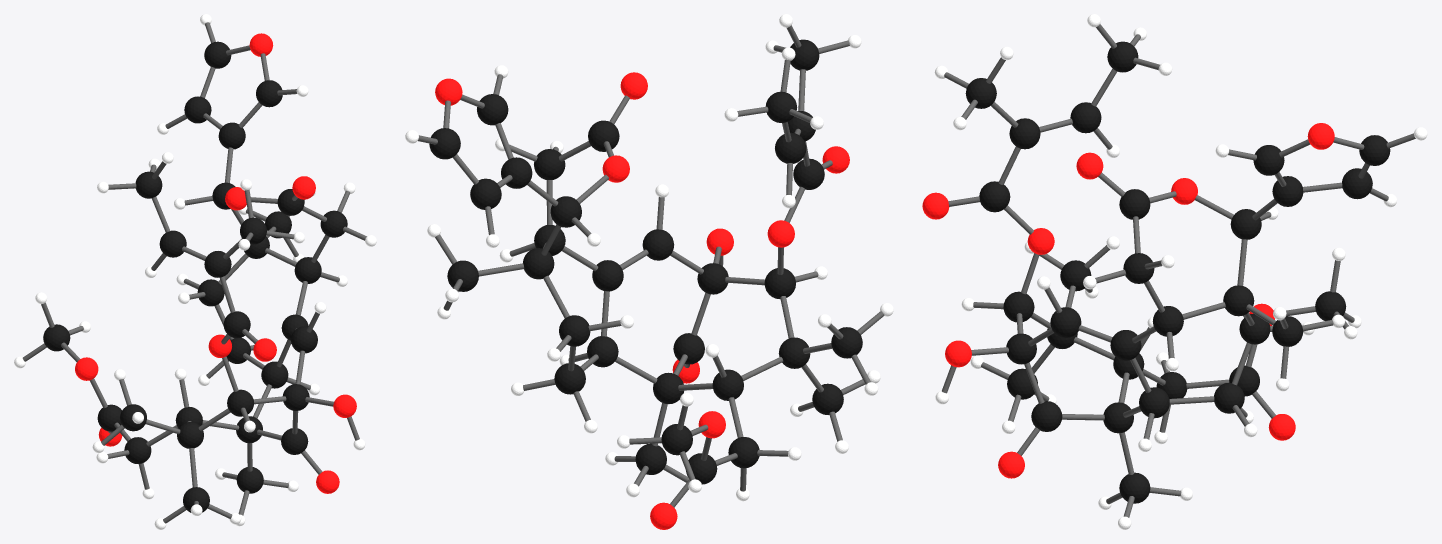
File: molecule.glb
3 views of the same model, side by side, from view 1: azimuth 30°, elevation 25°; view 2: azimuth 150°, elevation 25°; view 3: azimuth 270°, elevation 25° (orthographic). The views are drawn at different scales.
Visible parts, largest first — view 1: geometry_36, geometry_1, geometry_37, geometry_40, geometry_2, geometry_38, geometry_25, geometry_4, geometry_19, geometry_0, geometry_8, geometry_16 (+22 smaller); view 2: geometry_24, geometry_23, geometry_37, geometry_21, geometry_31, geometry_40, geometry_28, geometry_38, geometry_10, geometry_16, geometry_26, geometry_4 (+27 smaller); view 3: geometry_4, geometry_19, geometry_1, geometry_32, geometry_2, geometry_23, geometry_40, geometry_35, geometry_38, geometry_24, geometry_28, geometry_0 (+24 smaller).
Part boxes in pixels (x1,y1,x2,y2): geometry_36: [218, 122, 245, 149]; geometry_1: [159, 230, 186, 257]; geometry_37: [184, 96, 211, 123]; geometry_40: [256, 80, 282, 107]; geometry_2: [204, 251, 231, 277]; geometry_38: [204, 41, 231, 68]; geometry_25: [261, 361, 288, 388]; geometry_4: [223, 311, 250, 338]; geometry_19: [281, 428, 308, 454]; geometry_0: [135, 171, 162, 198]; geometry_8: [177, 422, 203, 448]; geometry_16: [43, 324, 70, 351]; geometry_24: [592, 260, 623, 291]; geometry_23: [642, 229, 674, 260]; geometry_37: [470, 178, 501, 209]; geometry_21: [697, 263, 728, 294]; geometry_31: [534, 149, 565, 179]; geometry_40: [477, 94, 508, 125]; geometry_28: [523, 248, 554, 279]; geometry_38: [429, 128, 460, 159]; geometry_10: [812, 383, 843, 414]; geometry_16: [661, 424, 692, 455]; geometry_26: [554, 363, 585, 394]; geometry_4: [793, 158, 824, 189]; geometry_4: [979, 181, 1010, 212]; geometry_19: [1031, 401, 1062, 431]; geometry_1: [1070, 102, 1101, 133]; geometry_32: [1119, 189, 1150, 219]; geometry_2: [1009, 118, 1040, 149]; geometry_23: [1050, 307, 1081, 337]; geometry_40: [1253, 145, 1284, 175]; geometry_35: [1230, 209, 1261, 239]; geometry_38: [1359, 135, 1390, 165]; geometry_24: [1110, 330, 1141, 360]; geometry_28: [1223, 285, 1254, 316]; geometry_0: [1107, 41, 1138, 72].
Size of the model in its own units: 0.2069 by 0.257 by 0.2602.
